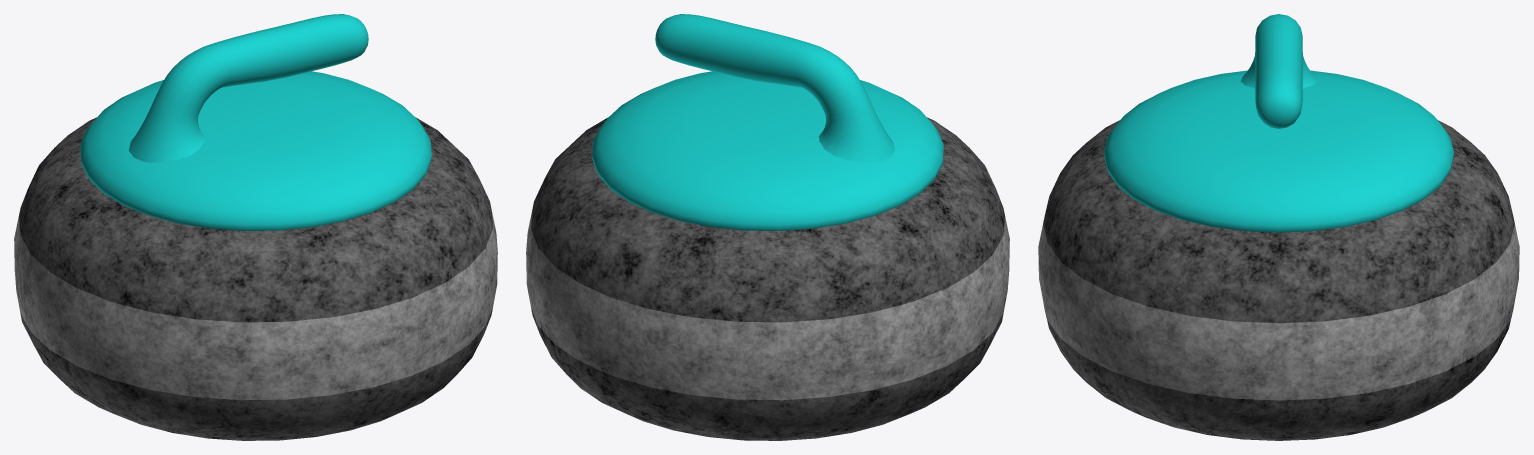
Rendered from CurlingStone.fbx.
3 views of the same model, side by side, from view 1: azimuth 30°, elevation 25°; view 2: azimuth 150°, elevation 25°; view 3: azimuth 270°, elevation 25° (orthographic).
Parts seen in each view (by area): view 1: CurlingStone; view 2: CurlingStone; view 3: CurlingStone.
Part boxes in pixels (left/top/right/bottom): CurlingStone: left=14, top=14, right=497, bottom=440; CurlingStone: left=526, top=14, right=1009, bottom=440; CurlingStone: left=1038, top=14, right=1519, bottom=440.
Size of the model in its own units: 0.1205 by 0.1205 by 0.0962.
